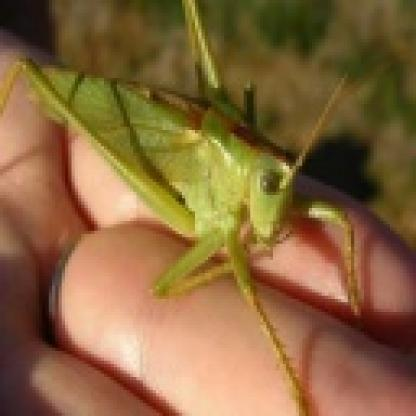grasshopper: (9, 2, 368, 325)
